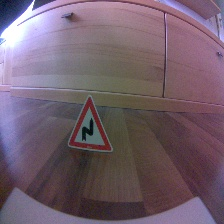vorsicht: (67, 94, 114, 153)
